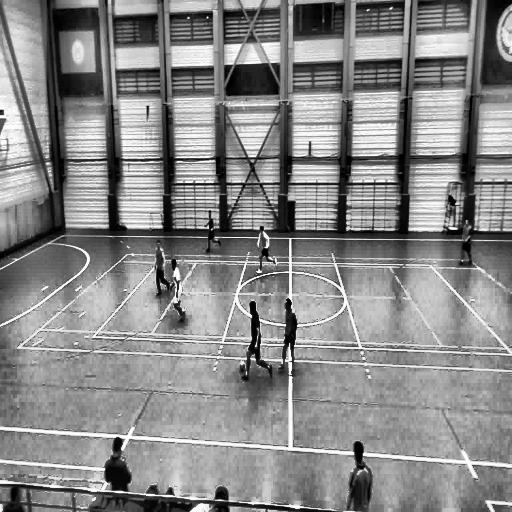ball: (239, 360, 246, 372)
player: (243, 300, 274, 382), (104, 438, 133, 506), (345, 440, 372, 511), (278, 298, 297, 376), (255, 224, 278, 275), (169, 257, 186, 320), (154, 241, 169, 296), (457, 215, 473, 264), (205, 211, 221, 252)
